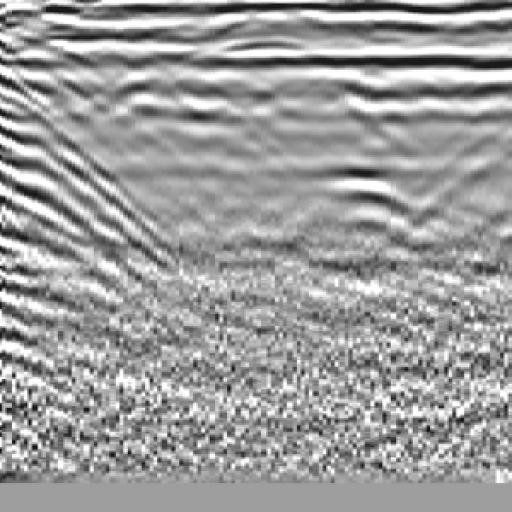metalic: (268, 31, 444, 276)
nonmetalic: (1, 35, 117, 286)
